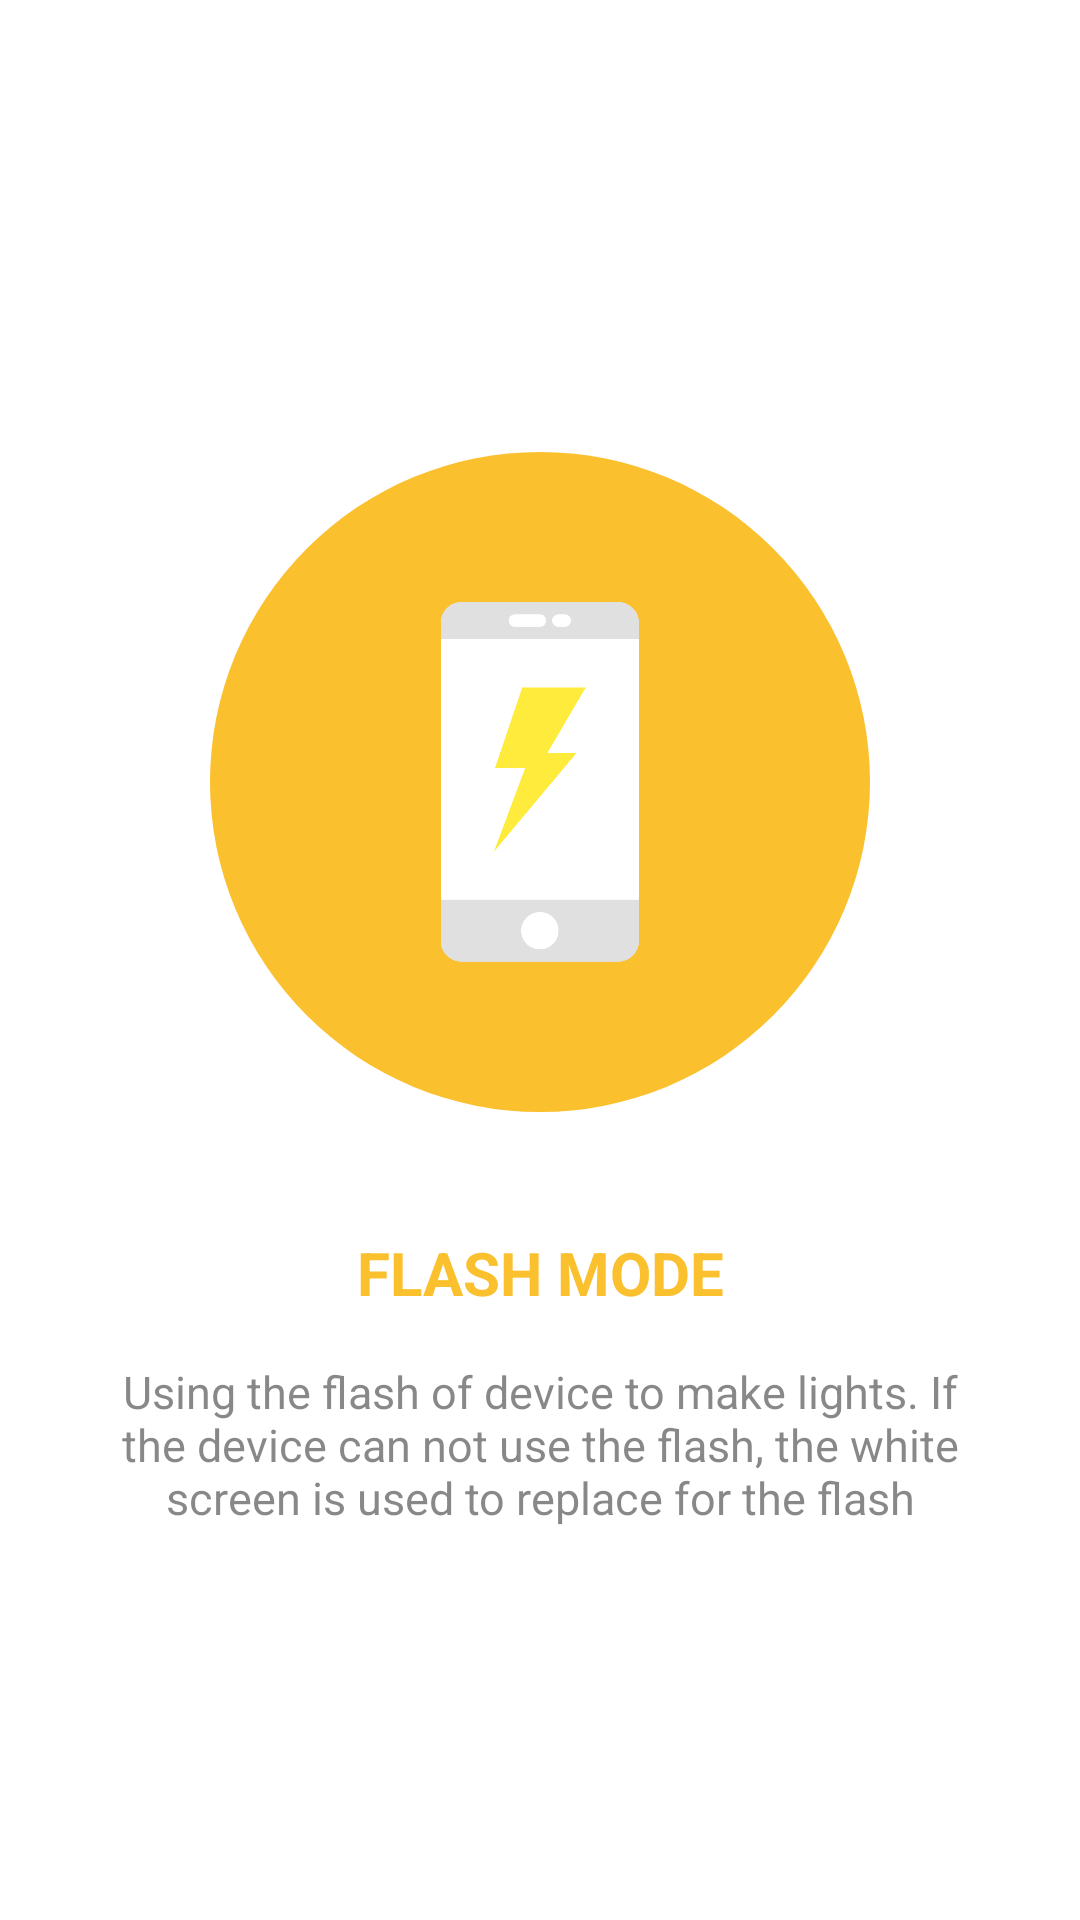

Screen size 1080 x 1920. Icon name, then its box in pixels as (x1, y1, x2, y2):
mode flash: (441, 602, 639, 962)
